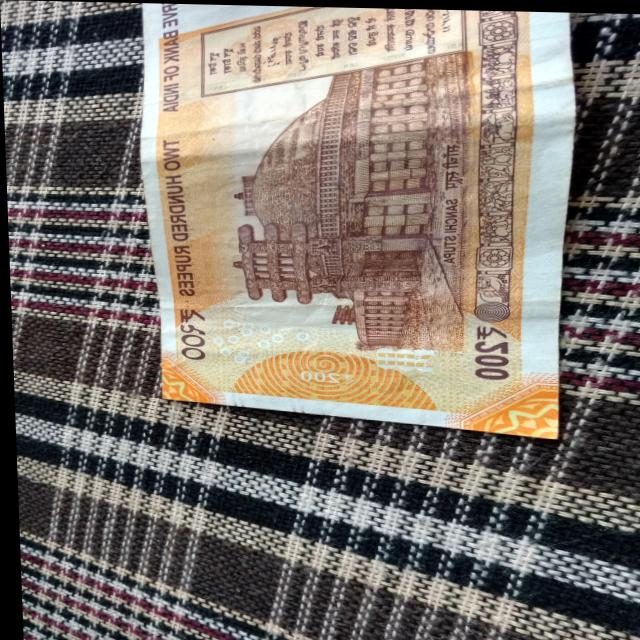Currency: (75, 1, 562, 431)
